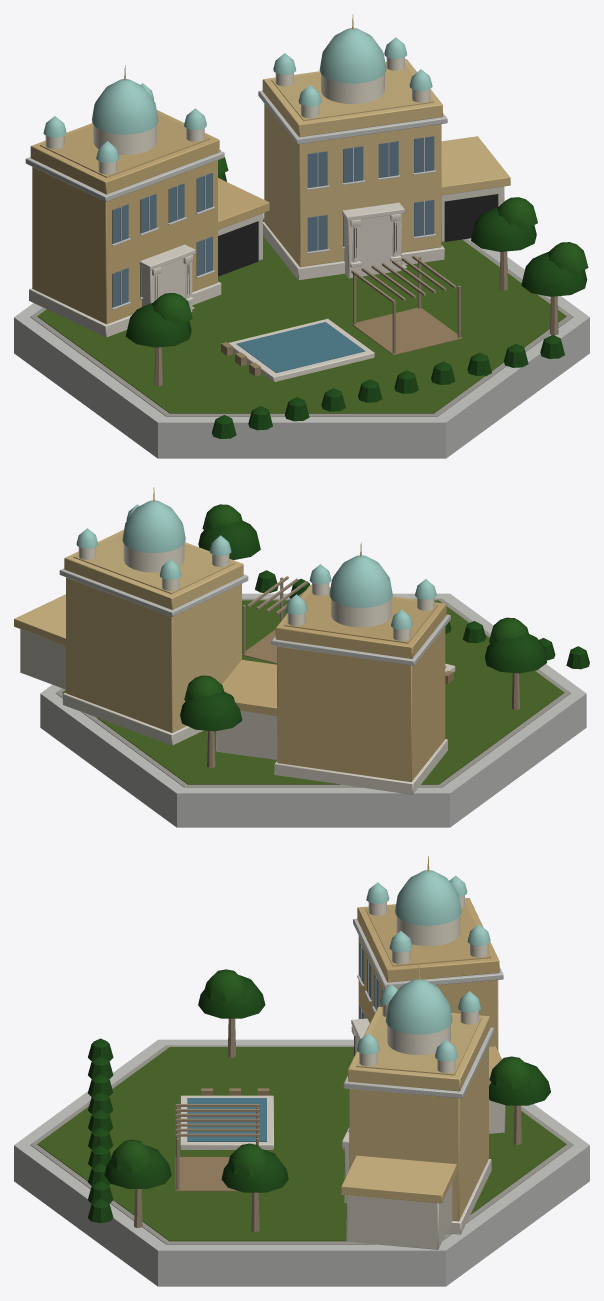
Rendered from luxuryVillas_arab.glb.
3 views of the same model, one above another, from view 1: azimuth 30°, elevation 25°; view 2: azimuth 150°, elevation 25°; view 3: azimuth 270°, elevation 25° (orthographic). The views are drawn at different scales.
Visible parts, largest first — view 1: plaster, turf, wall_concrete, leaf, stone, glass, copper, wood, dark, pavers, cladding; view 2: plaster, wall_concrete, turf, leaf, copper, cladding, stone, pavers, wood; view 3: turf, plaster, wall_concrete, leaf, copper, wood, cladding, pavers, stone, glass.
Boxes of the visible parts, x1,y1,x2,y2 form: plaster: [30, 57, 510, 324]; turf: [37, 219, 566, 413]; wall_concrete: [14, 90, 589, 458]; leaf: [125, 150, 588, 438]; stone: [29, 202, 444, 381]; glass: [112, 136, 434, 372]; copper: [43, 28, 432, 162]; wood: [154, 251, 558, 386]; dark: [155, 194, 498, 299]; pavers: [30, 217, 573, 416]; cladding: [218, 186, 504, 260]; plaster: [14, 529, 446, 781]; wall_concrete: [40, 568, 586, 827]; turf: [62, 600, 564, 784]; leaf: [180, 504, 589, 731]; copper: [76, 500, 436, 629]; cladding: [20, 629, 276, 759]; stone: [62, 663, 455, 794]; pavers: [55, 598, 570, 787]; wood: [207, 576, 519, 767]; turf: [37, 1047, 566, 1241]; plaster: [341, 895, 501, 1221]; wall_concrete: [14, 918, 589, 1286]; leaf: [88, 969, 550, 1223]; copper: [357, 870, 490, 1061]; wood: [134, 1018, 521, 1231]; cladding: [346, 1099, 505, 1249]; pavers: [30, 1045, 573, 1244]; stone: [180, 1018, 491, 1234]; glass: [187, 941, 383, 1141].
Bounding box in the file's own units: 22.78 × 12.7 × 24.6.
